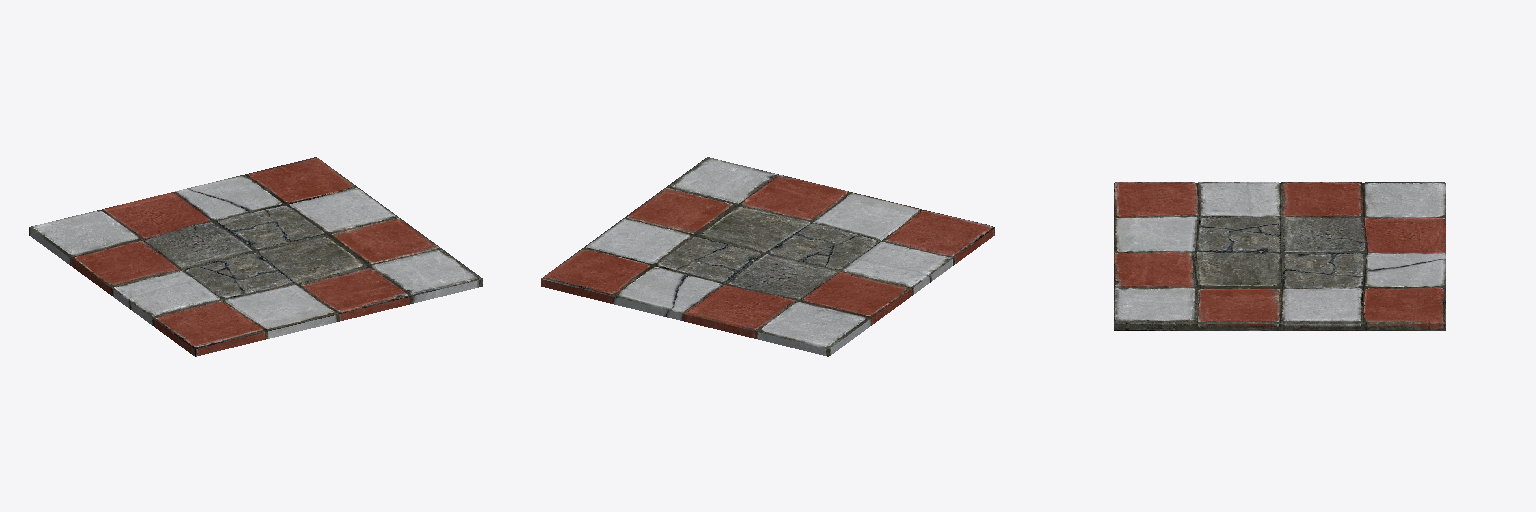
The picture shows the model from 3 angles: view 1: azimuth 30°, elevation 25°; view 2: azimuth 150°, elevation 25°; view 3: azimuth 270°, elevation 25°; orthographic projection.
Parts seen in each view (by area): view 1: Box001; view 2: Box001; view 3: Box001.
Boxes of the visible parts, <box> form: Box001: <box>29,157,482,356</box>; Box001: <box>541,157,994,356</box>; Box001: <box>1114,182,1445,330</box>.
Bounding box in the file's own units: 2.01 × 0.0635 × 2.01.
1 materials, 1 textured.